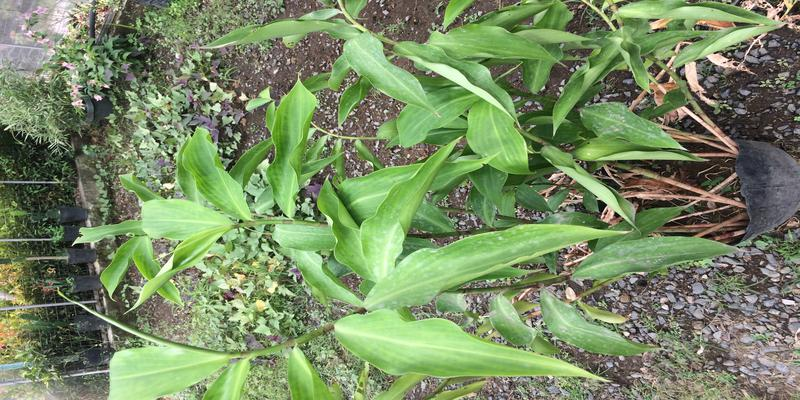Insulin: (302, 137, 743, 383)
